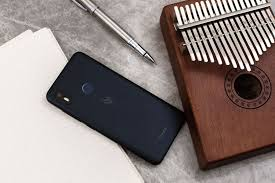vsmart: (40, 49, 192, 164)
